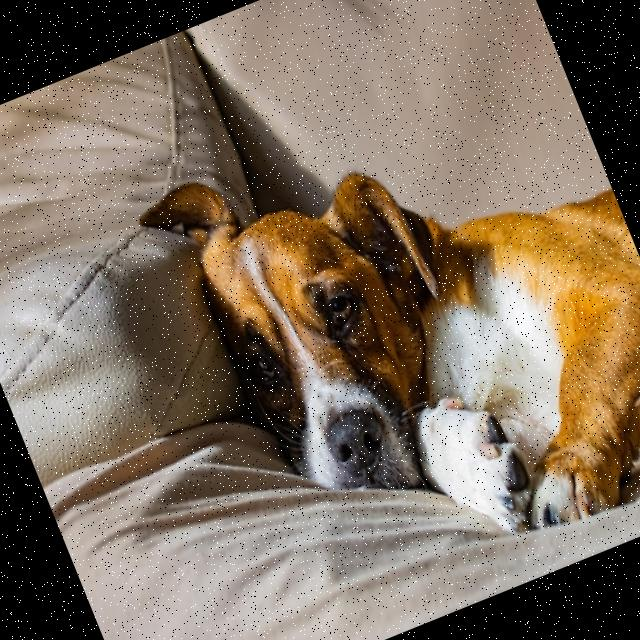Dog: (133, 37, 640, 629)
